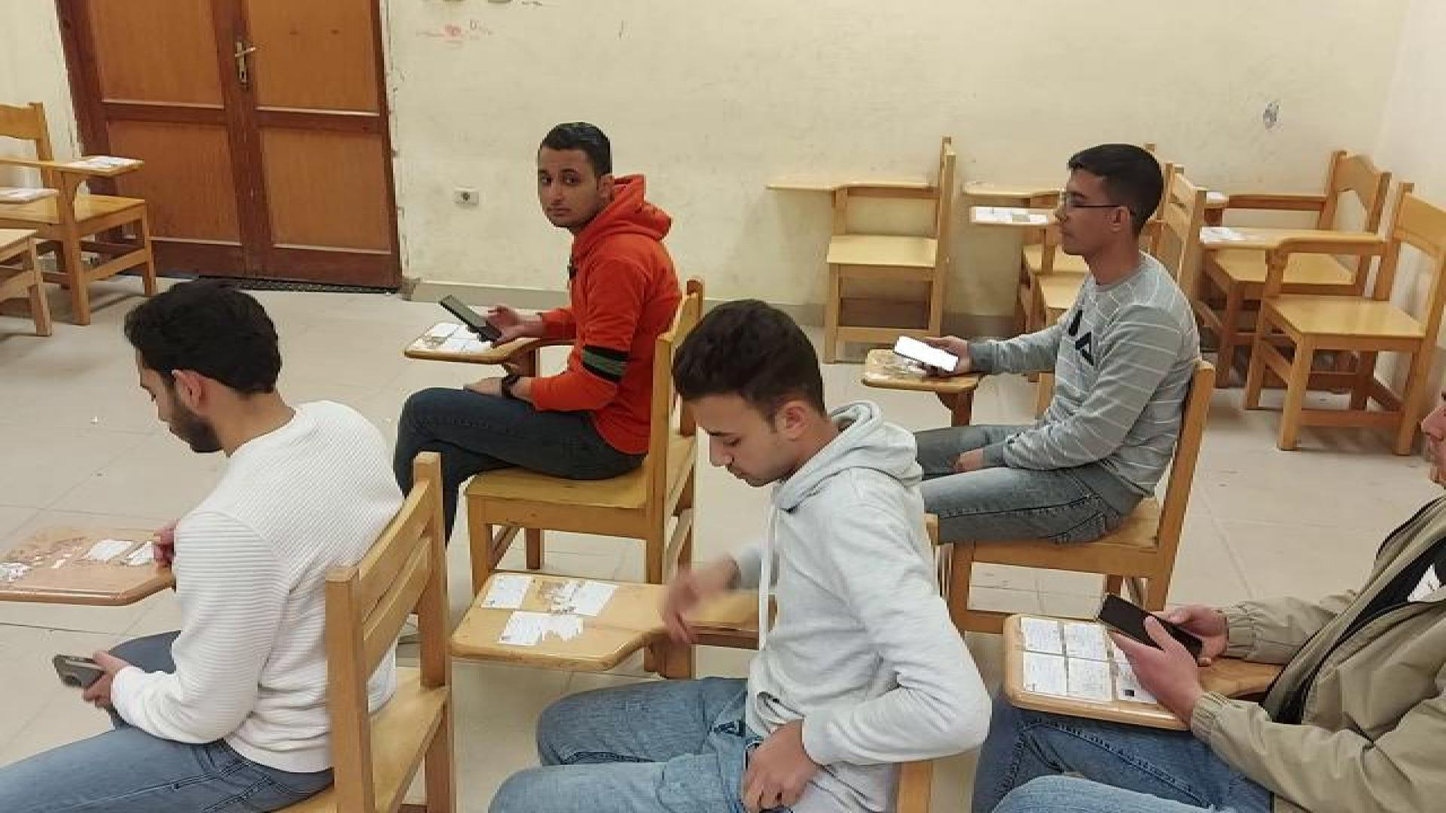phone: (1094, 589, 1213, 665), (439, 290, 512, 346), (50, 652, 117, 694), (895, 335, 967, 371)
